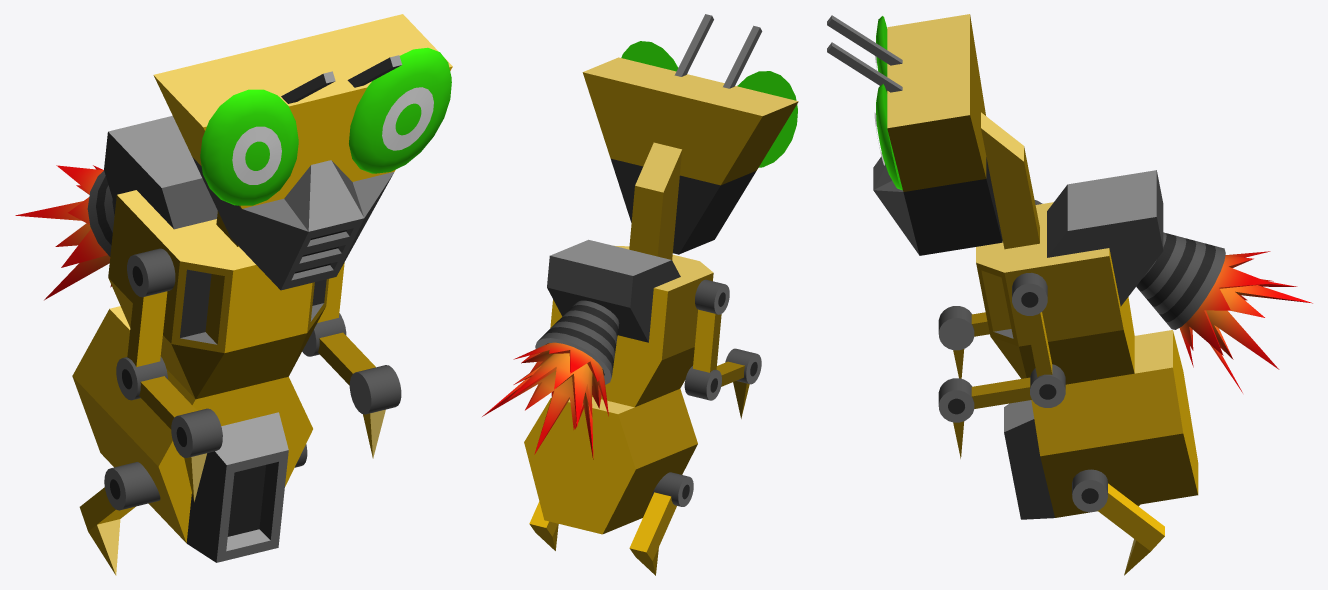
The picture shows the model from 3 angles, left to right: view 1: azimuth 30°, elevation 25°; view 2: azimuth 150°, elevation 25°; view 3: azimuth 270°, elevation 25°; orthographic projection. The views are drawn at different scales.
Parts seen in each view (by area): view 1: Ch_207_Head, Ch_207_Chest, Ch_207, Ch_207_Arm_L, Ch_207_Arm_R, Ch_207_Leg_L, Ch_207_Eye_01, Ch_219_Fire; view 2: Ch_207_Head, Ch_207_Chest, Ch_207, Ch_219_Fire, Ch_207_Arm_L, Ch_207_Leg_L, Ch_207_Leg_R; view 3: Ch_207_Chest, Ch_207_Head, Ch_207, Ch_207_Arm_R, Ch_219_Fire, Ch_207_Leg_R, Ch_207_Arm_L.
Boxes of the visible parts, box(x1,y1,x2,y2) form: Ch_207_Head: box(153, 14, 452, 290); Ch_207_Chest: box(87, 116, 328, 399); Ch_207: box(72, 306, 312, 562); Ch_207_Arm_L: box(116, 248, 222, 501); Ch_207_Arm_R: box(302, 262, 401, 458); Ch_207_Leg_L: box(79, 462, 160, 575); Ch_207_Eye_01: box(232, 87, 433, 184); Ch_219_Fire: box(15, 165, 111, 300); Ch_207_Head: box(582, 14, 798, 259); Ch_207_Chest: box(535, 239, 713, 407); Ch_207: box(524, 389, 697, 534); Ch_219_Fire: box(482, 342, 608, 459); Ch_207_Arm_L: box(684, 279, 761, 418); Ch_207_Leg_L: box(629, 472, 693, 575); Ch_207_Leg_R: box(529, 501, 558, 550); Ch_207_Chest: box(976, 170, 1225, 384); Ch_207_Head: box(827, 14, 1039, 255); Ch_207: box(1004, 330, 1198, 519); Ch_207_Arm_R: box(938, 272, 1065, 458); Ch_219_Fire: box(1179, 251, 1312, 392); Ch_207_Leg_R: box(1072, 469, 1164, 575); Ch_207_Arm_L: box(938, 200, 1042, 378).
Bounding box in the file's own units: 4.43 × 10.56 × 9.01.
